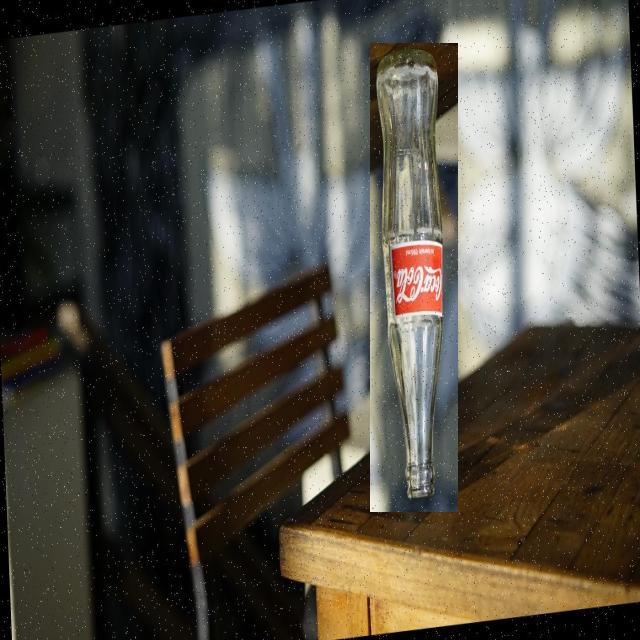coca-cola: (370, 43, 458, 512)
